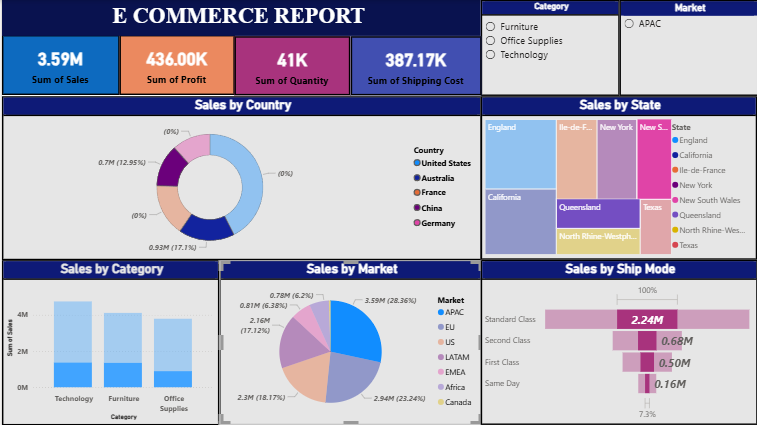

The dashboard page shown, as its layout file describes it:
{"tool":"powerbi","page":{"name":"Page 1","canvas":[1280,720],"ordinal":0},"visuals":[{"type":"columnChart","title":"Sales by Category","fields":{"Category":["Orders.Category"],"Y":["Sum(Orders.Sales)"]},"box":[0,440.5,367.8,279.9],"z":0},{"type":"pieChart","title":"Sales by Market","fields":{"Category":["Orders.Market"],"Y":["Sum(Orders.Sales)"]},"box":[367.8,440.5,444.6,279.9],"z":1000},{"type":"funnel","title":"Sales by Ship Mode","fields":{"Category":["Orders.Ship Mode"],"Y":["Sum(Orders.Sales)"]},"box":[811.6,440.7,468.6,279.1],"z":2000},{"type":"donutChart","title":"Sales by Country","fields":{"Category":["Orders.Country"],"Y":["Sum(Orders.Sales)"]},"box":[0,162.8,811.6,277.9],"z":3000},{"type":"listSlicer","box":[1045.6,0,234.6,163.3],"z":4000},{"type":"listSlicer","fields":{"Values":["Orders.Market"]},"box":[1045.4,0,234.9,162.8],"z":5000},{"type":"listSlicer","fields":{"Values":["Orders.Category"]},"box":[811.6,0,234.9,162.8],"z":6000},{"type":"treemap","title":"Sales by State","fields":{"Values":["Sum(Orders.Sales)"],"Group":["Orders.State"]},"box":[811,163.3,467.9,277.2],"z":7000},{"type":"card","fields":{"Values":["Sum(Orders.Sales)"]},"box":[0,60.1,198.9,101.5],"z":8000},{"type":"card","fields":{"Values":["Sum(Orders.Profit)"]},"box":[198.9,60.1,194.9,101.5],"z":9000},{"type":"card","fields":{"Values":["Sum(Orders.Quantity)"]},"box":[393.8,61.4,196.2,100.1],"z":10000},{"type":"card","fields":{"Values":["Sum(Orders.Shipping Cost)"]},"box":[590.1,61.4,221.6,100.1],"z":11000},{"type":"textbox","box":[0,0,810.6,61],"z":12000}]}

Visuals, with their boxes in screenshot pixels (x1, y1, x2, y2), scaled from the page's 1280x720 canvas onto the 757x425 screenshot:
"Sales by Category" columnChart: 0, 260, 218, 424
"Sales by Market" pieChart: 218, 260, 480, 424
"Sales by Ship Mode" funnel: 480, 260, 756, 424
"Sales by Country" donutChart: 0, 96, 480, 260
listSlicer: 618, 0, 756, 96
listSlicer - Orders.Market: 618, 0, 756, 96
listSlicer - Orders.Category: 480, 0, 619, 96
"Sales by State" treemap: 480, 96, 756, 260
card - Sum(Orders.Sales): 0, 35, 118, 95
card - Sum(Orders.Profit): 118, 35, 233, 95
card - Sum(Orders.Quantity): 233, 36, 349, 95
card - Sum(Orders.Shipping Cost): 349, 36, 480, 95
textbox: 0, 0, 479, 36
